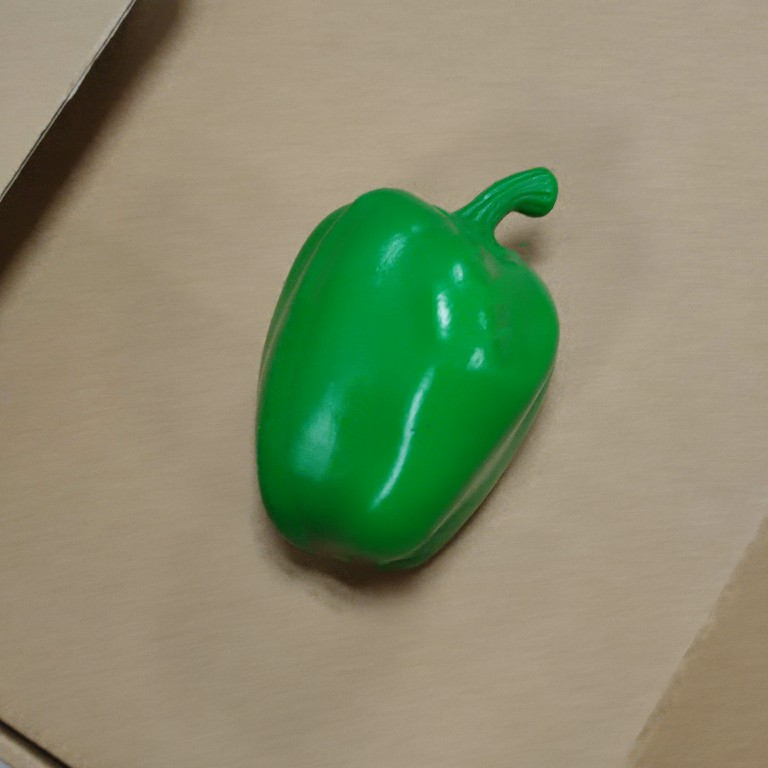fruit_pepper: (247, 160, 567, 589)
